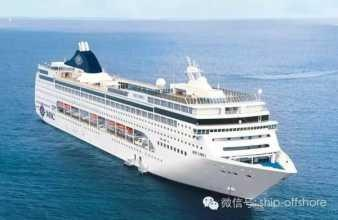youlun: (32, 38, 303, 205)
